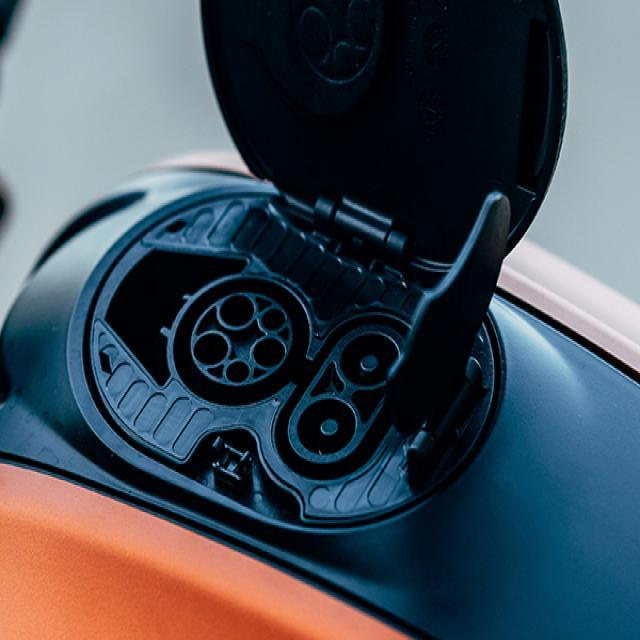CCS1: (162, 259, 420, 494)
